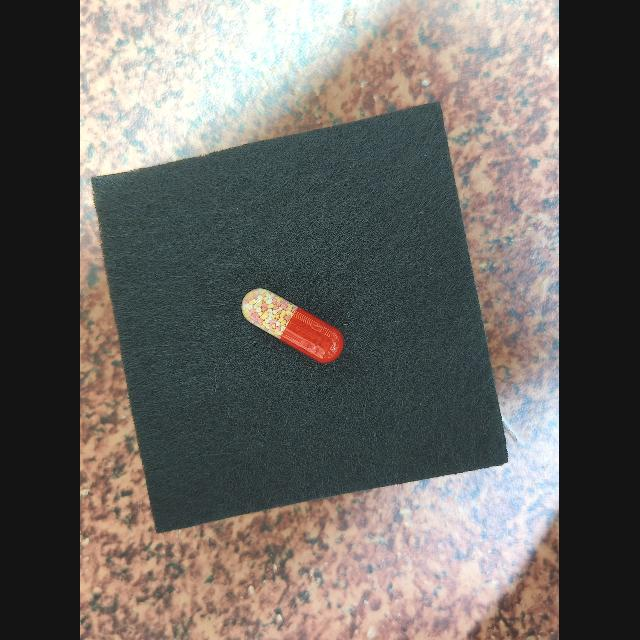Intact Capsule: (242, 288, 344, 363)
